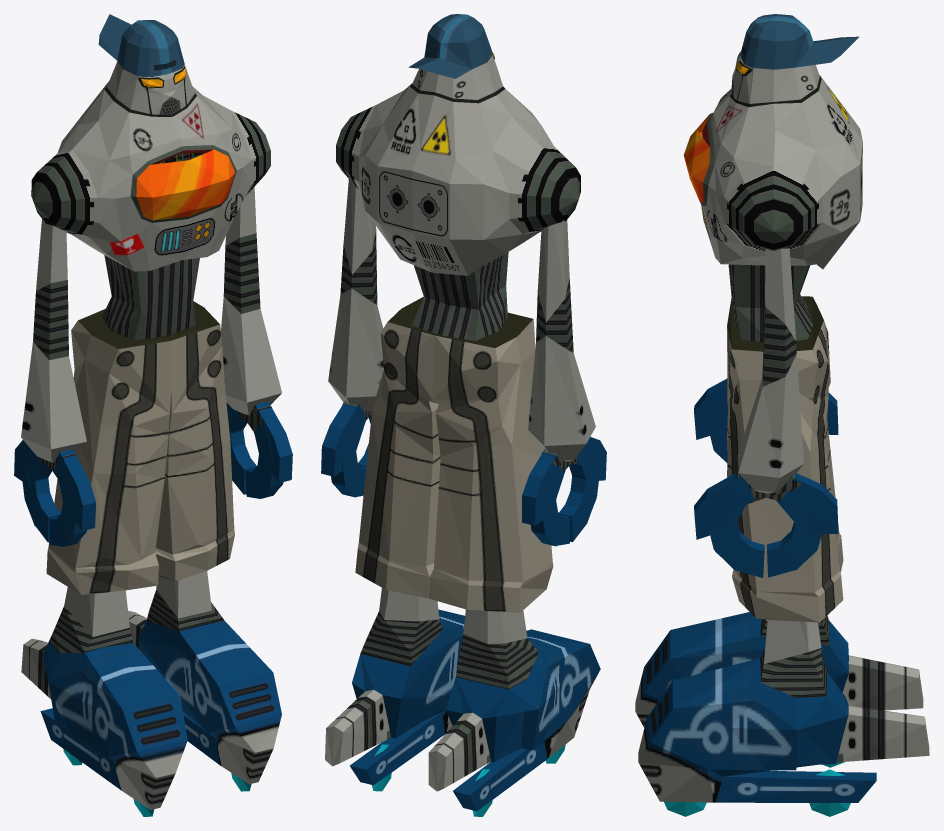
File: roboy.obj
3 renders of one model, left to right at view 1: azimuth 30°, elevation 25°; view 2: azimuth 150°, elevation 25°; view 3: azimuth 270°, elevation 25°, orthographic. The views are drawn at different scales.
Visible parts, largest first — view 1: typea_MDLB_69360_P20, typea_MDLB_263600_P20, typea_MDLB_314496_P20, typea_MDLB_238160_P20, typea_MDLB_339936_P20; view 2: typea_MDLB_69360_P20, typea_MDLB_314496_P20, typea_MDLB_263600_P20, typea_MDLB_238160_P20, typea_MDLB_339936_P20; view 3: typea_MDLB_69360_P20, typea_MDLB_238160_P20, typea_MDLB_263600_P20, typea_MDLB_314496_P20, typea_MDLB_339936_P20.
Boxes of the visible parts, x1,y1,x2,y2 form: typea_MDLB_69360_P20: (21, 14, 282, 816); typea_MDLB_263600_P20: (226, 404, 283, 498); typea_MDLB_314496_P20: (14, 440, 95, 530); typea_MDLB_238160_P20: (236, 401, 292, 482); typea_MDLB_339936_P20: (35, 465, 86, 546); typea_MDLB_69360_P20: (325, 14, 600, 816); typea_MDLB_314496_P20: (522, 437, 606, 525); typea_MDLB_263600_P20: (331, 411, 371, 497); typea_MDLB_238160_P20: (321, 400, 366, 476); typea_MDLB_339936_P20: (530, 454, 597, 545); typea_MDLB_69360_P20: (635, 14, 929, 816); typea_MDLB_238160_P20: (694, 473, 838, 539); typea_MDLB_263600_P20: (711, 479, 820, 577); typea_MDLB_314496_P20: (694, 378, 838, 439); typea_MDLB_339936_P20: (707, 385, 727, 462).
Bounding box in the file's own units: 6.63 × 18.8 × 6.46.
Materials: 2 (2 with a texture image).
